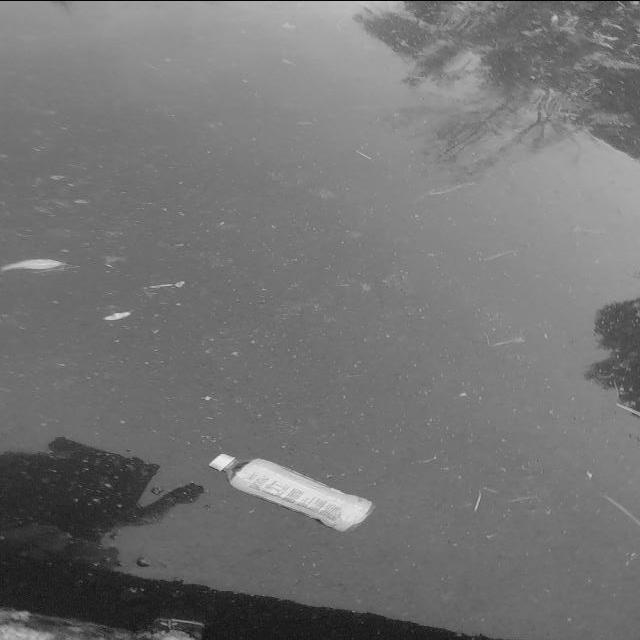bottle: (198, 444, 388, 540)
